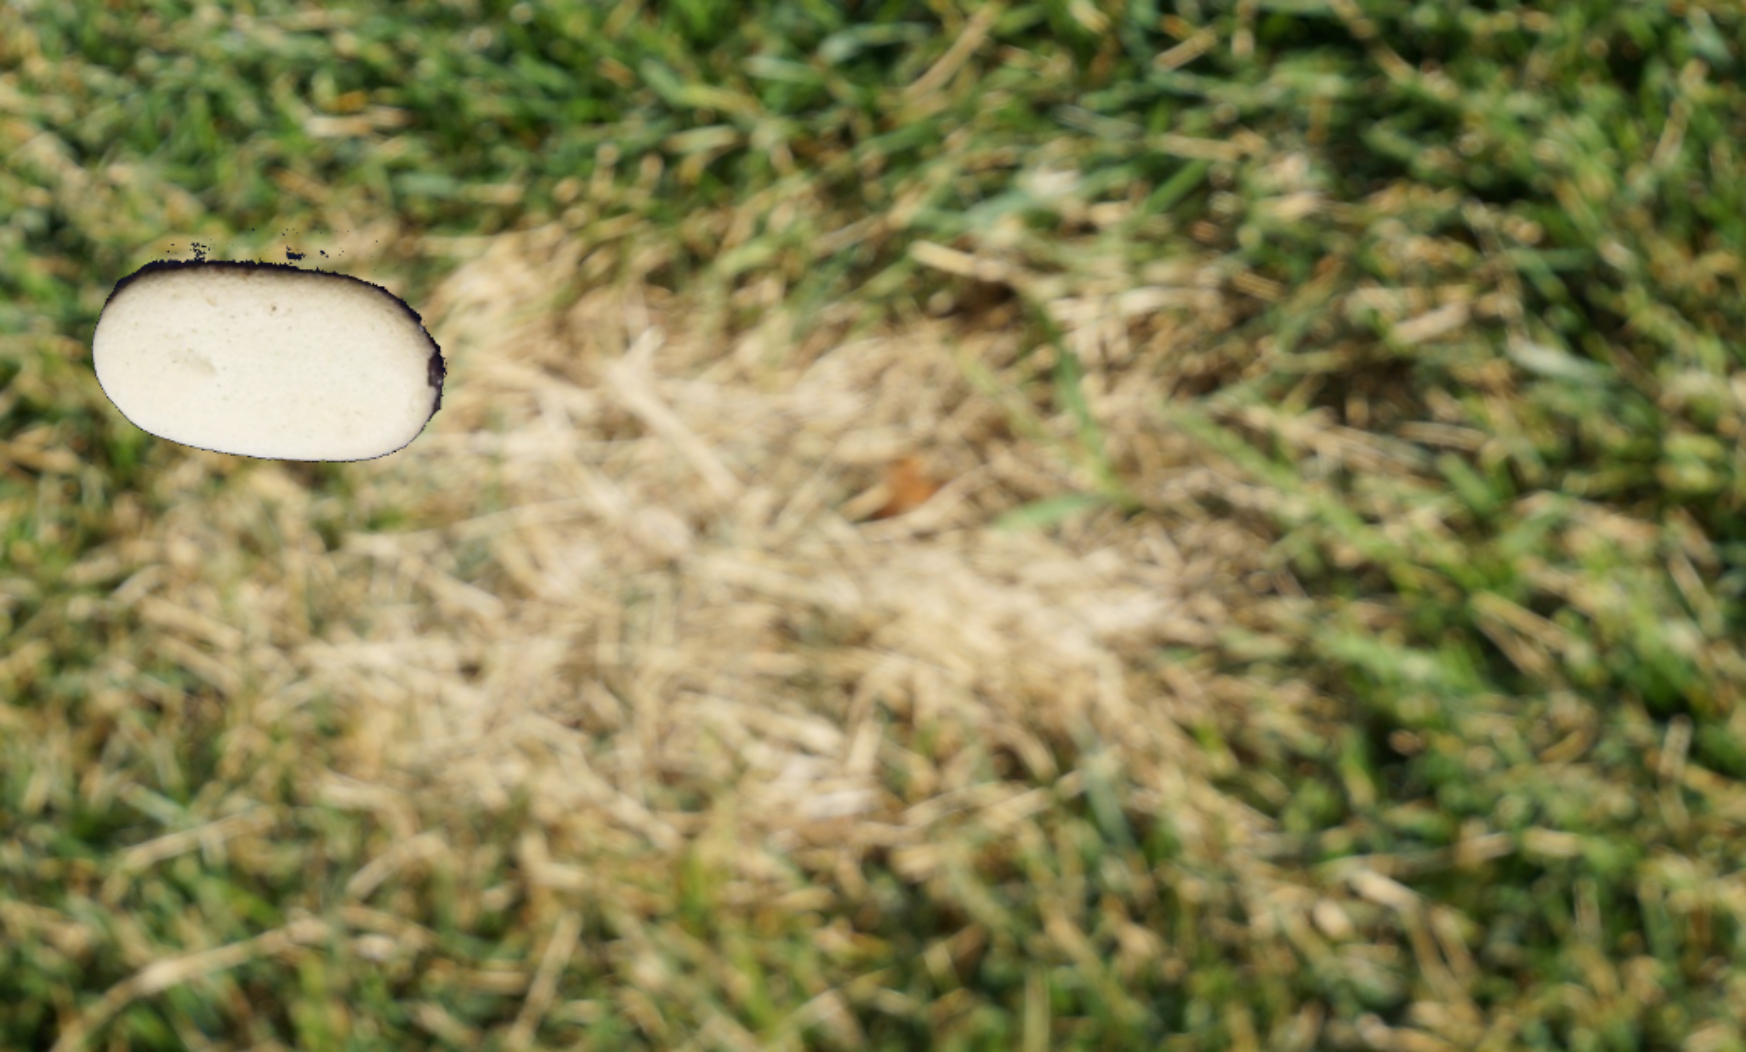test: (51, 128, 495, 575)
